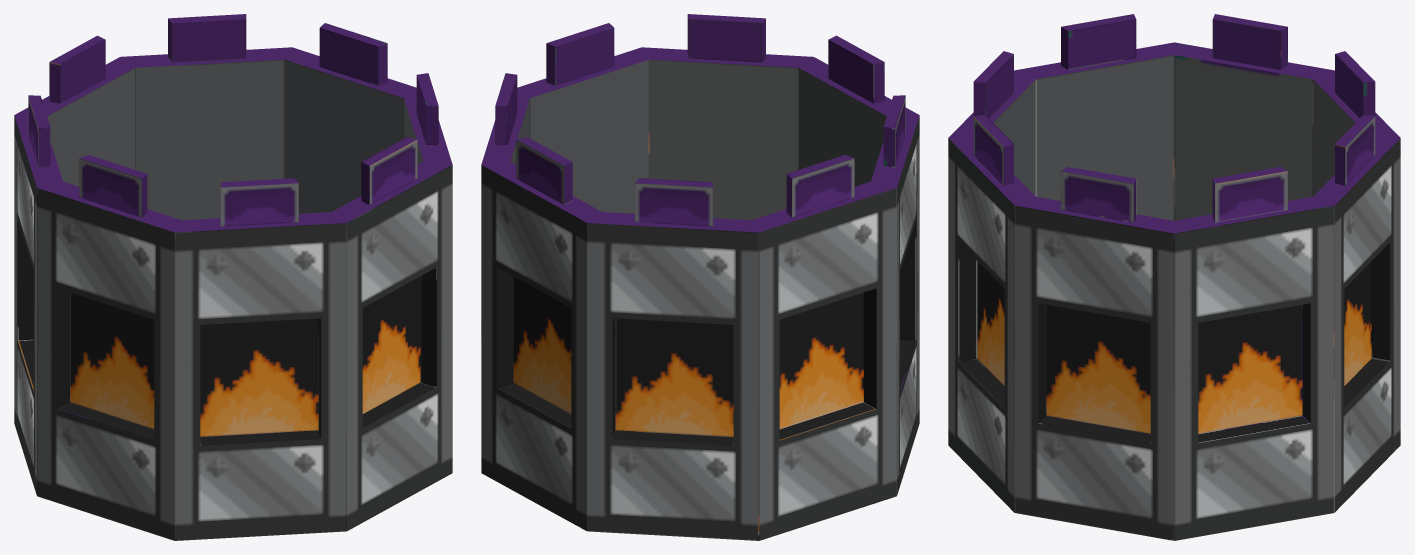
The model's file is Smokestack 1.fbx.
The picture shows the model from 3 angles, left to right: view 1: azimuth 30°, elevation 25°; view 2: azimuth 150°, elevation 25°; view 3: azimuth 270°, elevation 25°; orthographic projection.
Visible parts, largest first — view 1: Cylinder; view 2: Cylinder; view 3: Cylinder.
Part boxes in pixels (x1,y1,x2,y2): Cylinder: (14,14,452,540); Cylinder: (481,14,919,540); Cylinder: (948,14,1400,540).
Size of the model in its own units: 400 by 338 by 400.
Materials: 1 (1 with a texture image).
